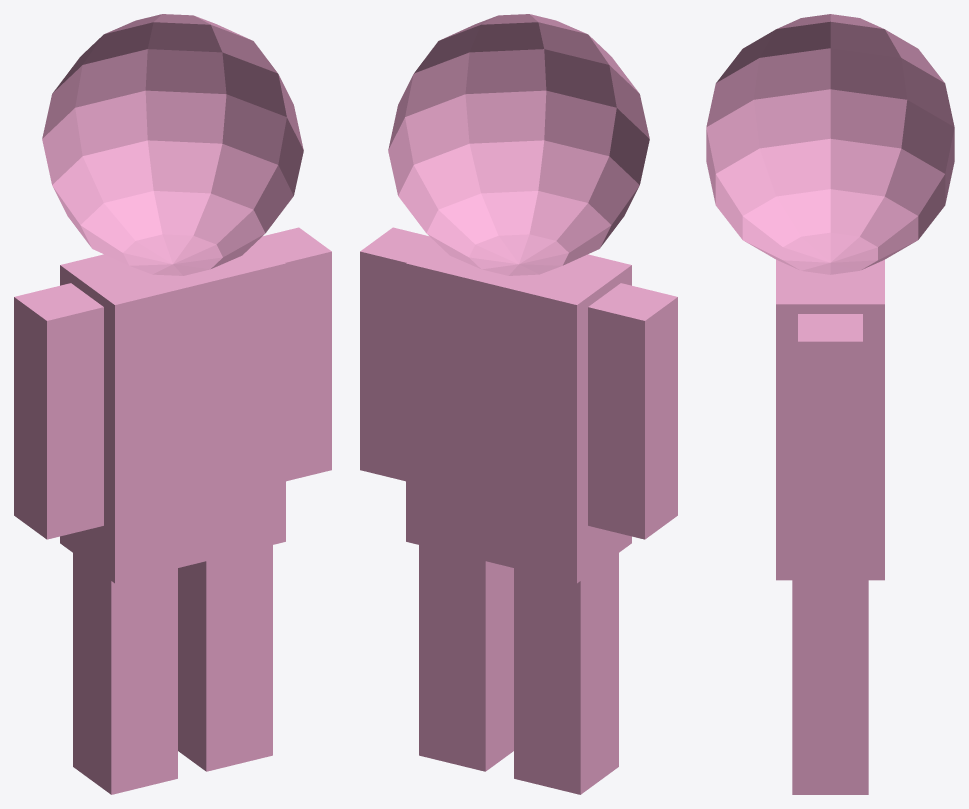
Rendered from player-pink.glb.
3 views of the same model, side by side, from view 1: azimuth 30°, elevation 25°; view 2: azimuth 150°, elevation 25°; view 3: azimuth 270°, elevation 25° (orthographic).
Parts seen in each view (by area): view 1: player-pink; view 2: player-pink; view 3: player-pink.
Boxes of the visible parts, x1,y1,x2,y2 form: player-pink: (14,14,331,794); player-pink: (360,14,677,794); player-pink: (706,14,954,794).
Size of the model in its own units: 0.3 by 0.74 by 0.2283.
